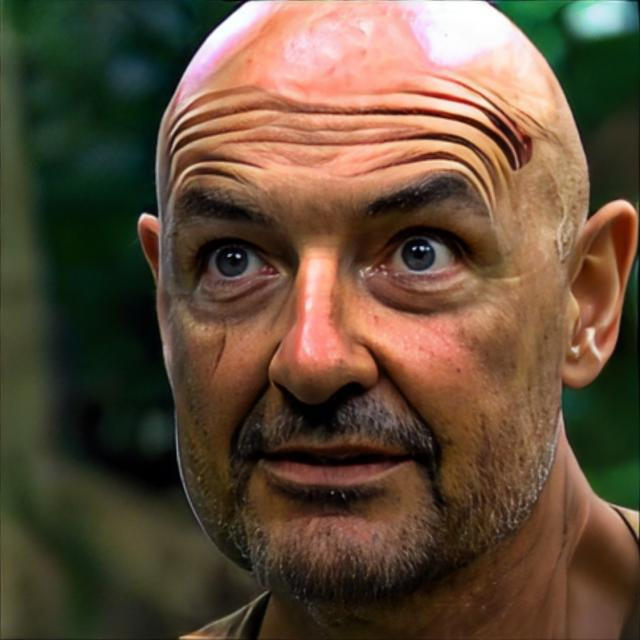surprise: (156, 0, 564, 613)
